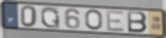0: (20, 5, 39, 28)
6: (64, 8, 81, 30)
B: (126, 10, 149, 34)
E: (105, 10, 126, 33)
O: (84, 9, 104, 31)
Q: (40, 6, 61, 30)
